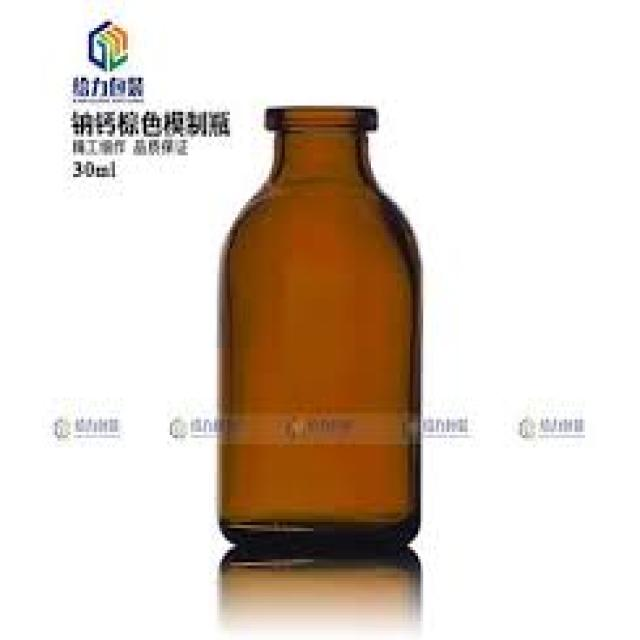glass: (215, 103, 416, 553)
